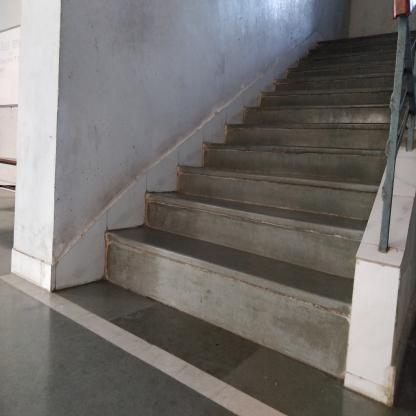stairs: (246, 116, 361, 399)
